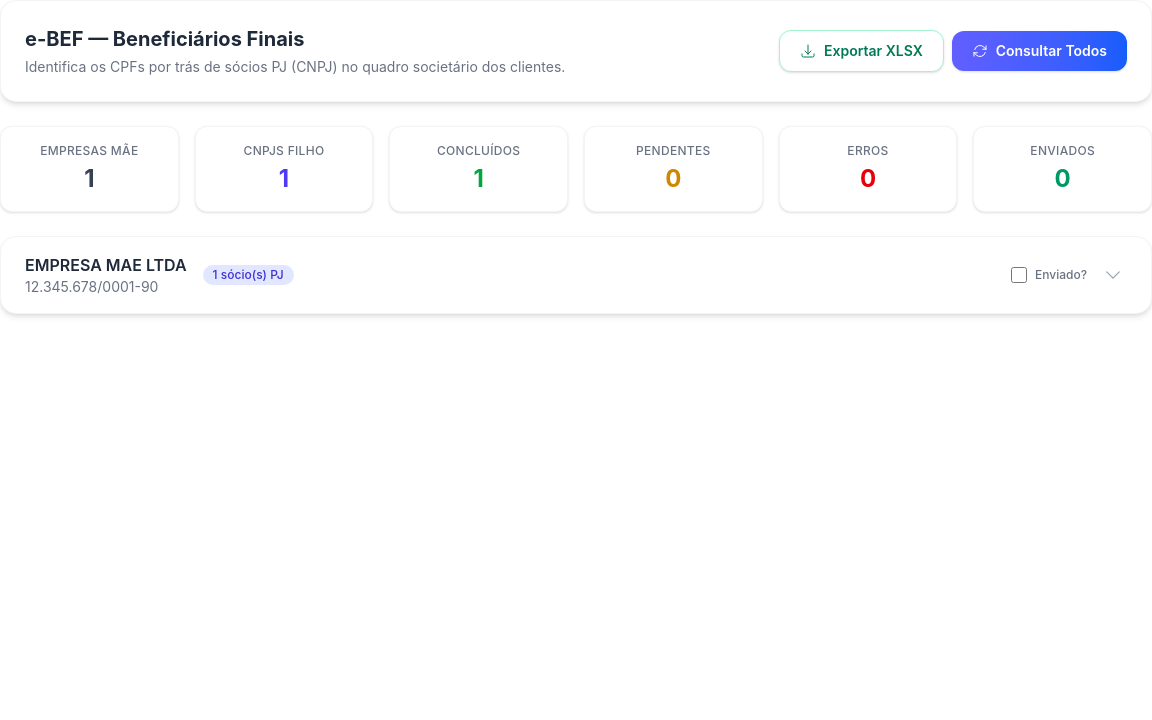
Test: EBEFTab › exibe empresa mae e permite expandir accordion
The width and height of the screenshot is (1152, 720).
Clicar para expandir
Step 1. Click the text "EMPRESA MAE LTDA" → (106, 265), box [25,253,187,277]
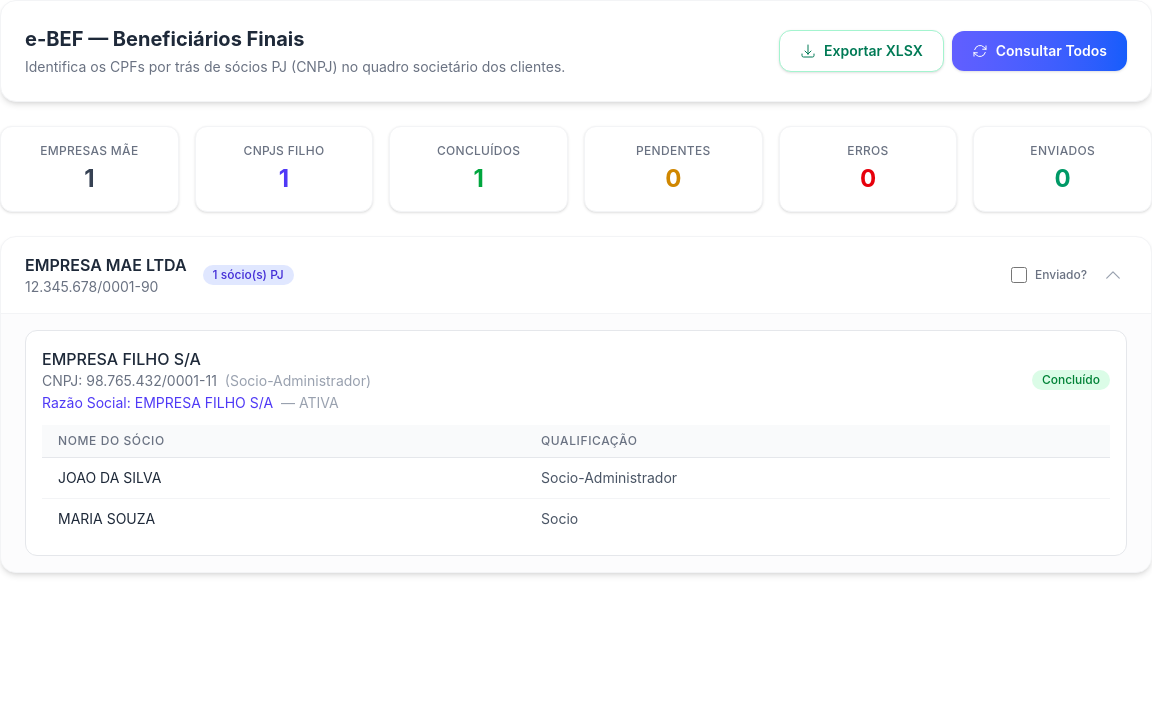
Result: the text "EMPRESA FILHO S/A" is shown at [42,349,201,369]
